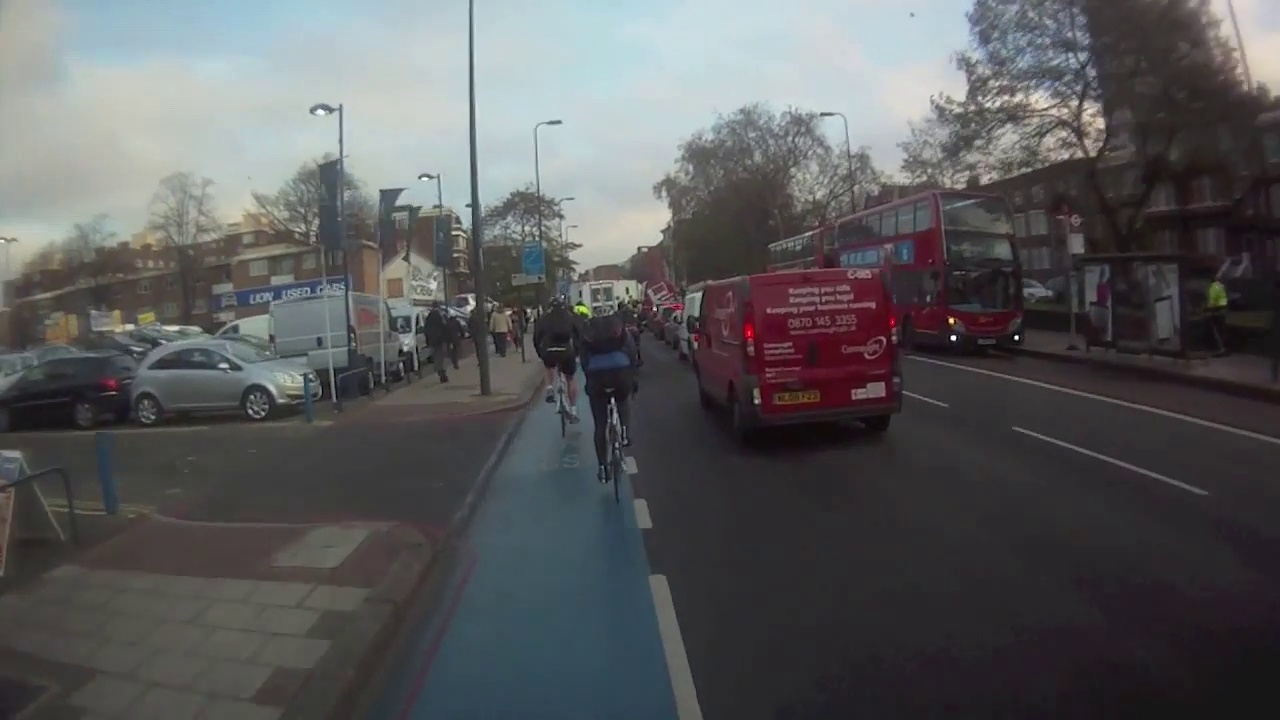cyclist_back: (576, 302, 640, 507), (532, 293, 587, 446)
